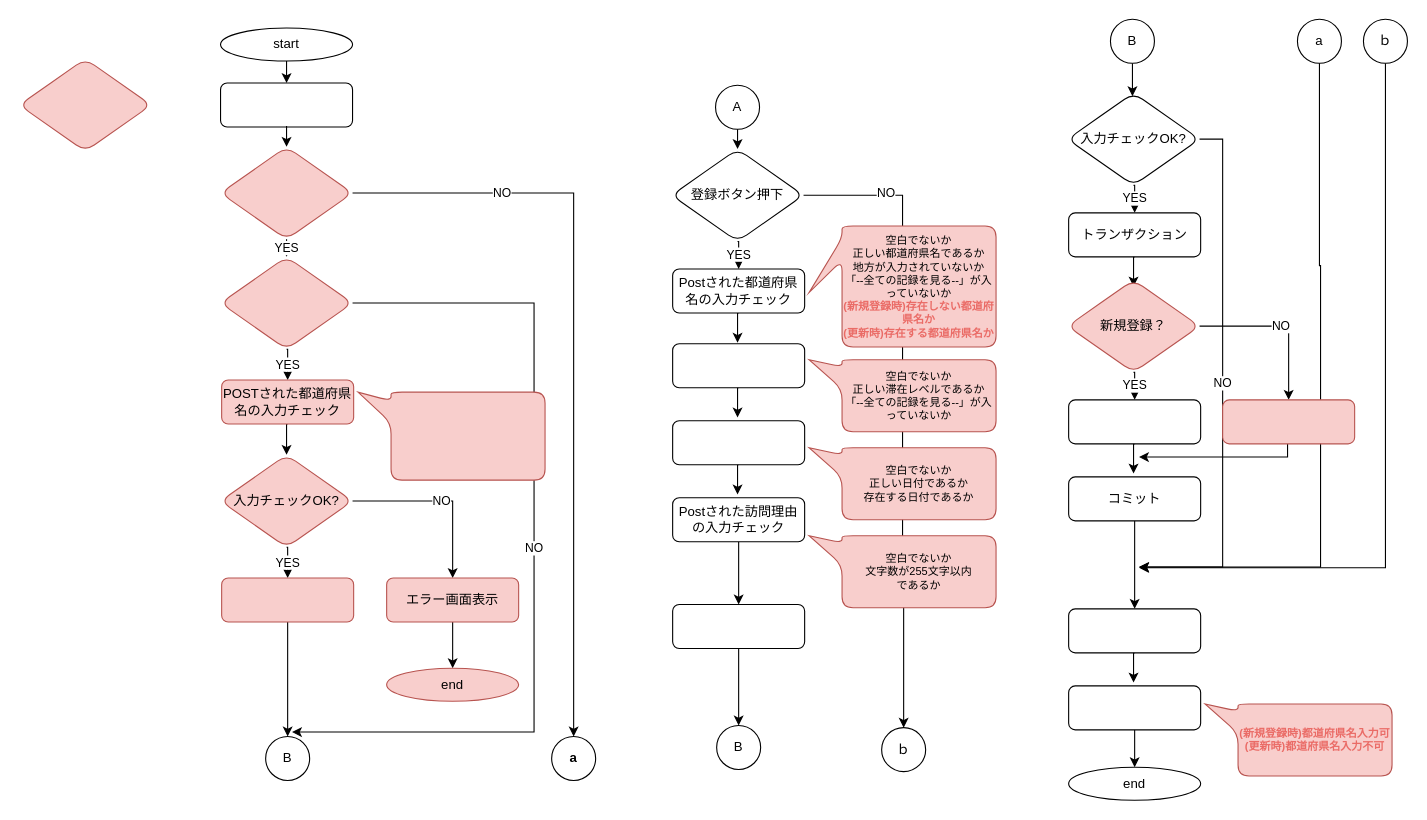
This 1427x820 diagram has some shape labels left out. The shapes that lost their labels are listed below. From the top down, each one's centre as x and y in pixels, then its label:
(x=84, y=104): 更新処理
(x=286, y=104): データベース接続
(x=286, y=192): Post通信か
(x=286, y=302): 記録検索画面の編集ボタン押下
(x=738, y=365): Postされた滞在レベルの入力チェック
(x=451, y=435): 空白でないか 正しい都道府県名であるか 地方が入力されていないか 「--全ての記録を見る--」が入っていないか 存在する記録情報か
(x=1134, y=421): 記録情報登録SQLの実行
(x=1288, y=421): 記録情報更新SQLの実行
(x=738, y=442): Postされた訪問日の入力チェック
(x=287, y=599): 記録情報取得SQLの実行
(x=738, y=625): 都道府県に合った地方を決定する。
(x=1134, y=630): メッセージ表示
(x=1134, y=707): 各入力項目表示
